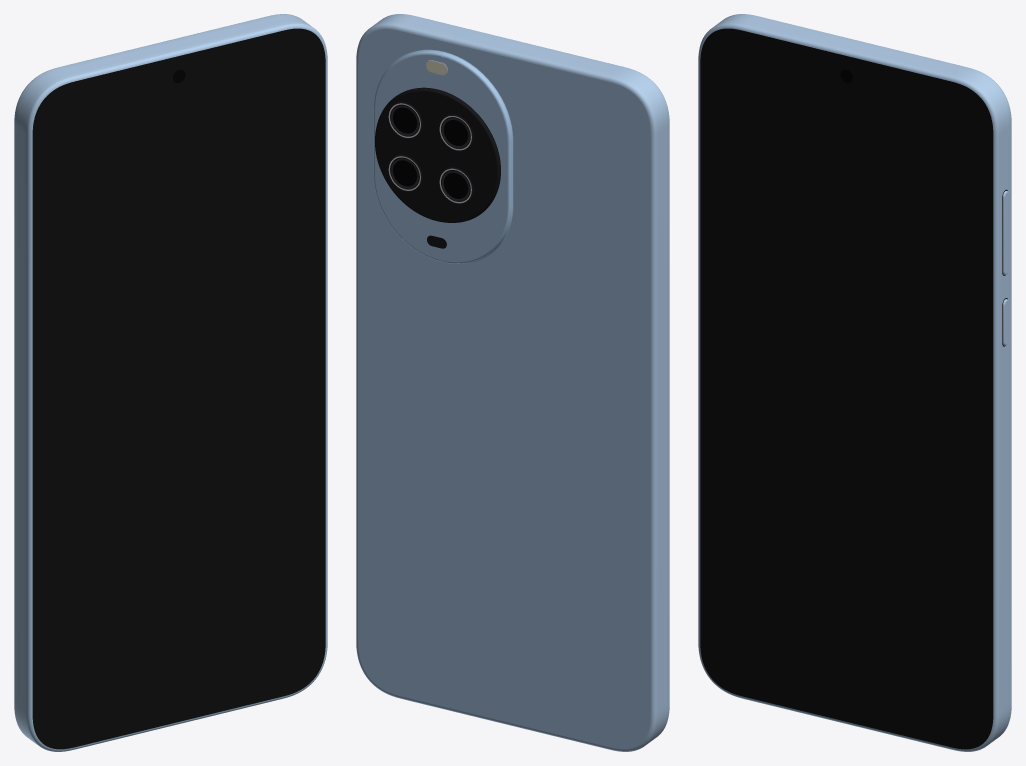
The model's file is huawei-nova-14.glb.
3 renders of one model, left to right at view 1: azimuth 30°, elevation 25°; view 2: azimuth 150°, elevation 25°; view 3: azimuth 330°, elevation 25°, orthographic.
Parts seen in each view (by area): view 1: body; view 2: body, camera; view 3: body, buttons.
Part boxes in pixels (x1,y1,x2,y2): body: [14, 14, 327, 751]; body: [356, 14, 669, 751]; camera: [373, 49, 513, 263]; body: [698, 14, 1011, 751]; buttons: [1002, 189, 1008, 346].
Bounding box in the file's own units: 75.91 × 162 × 9.36.
